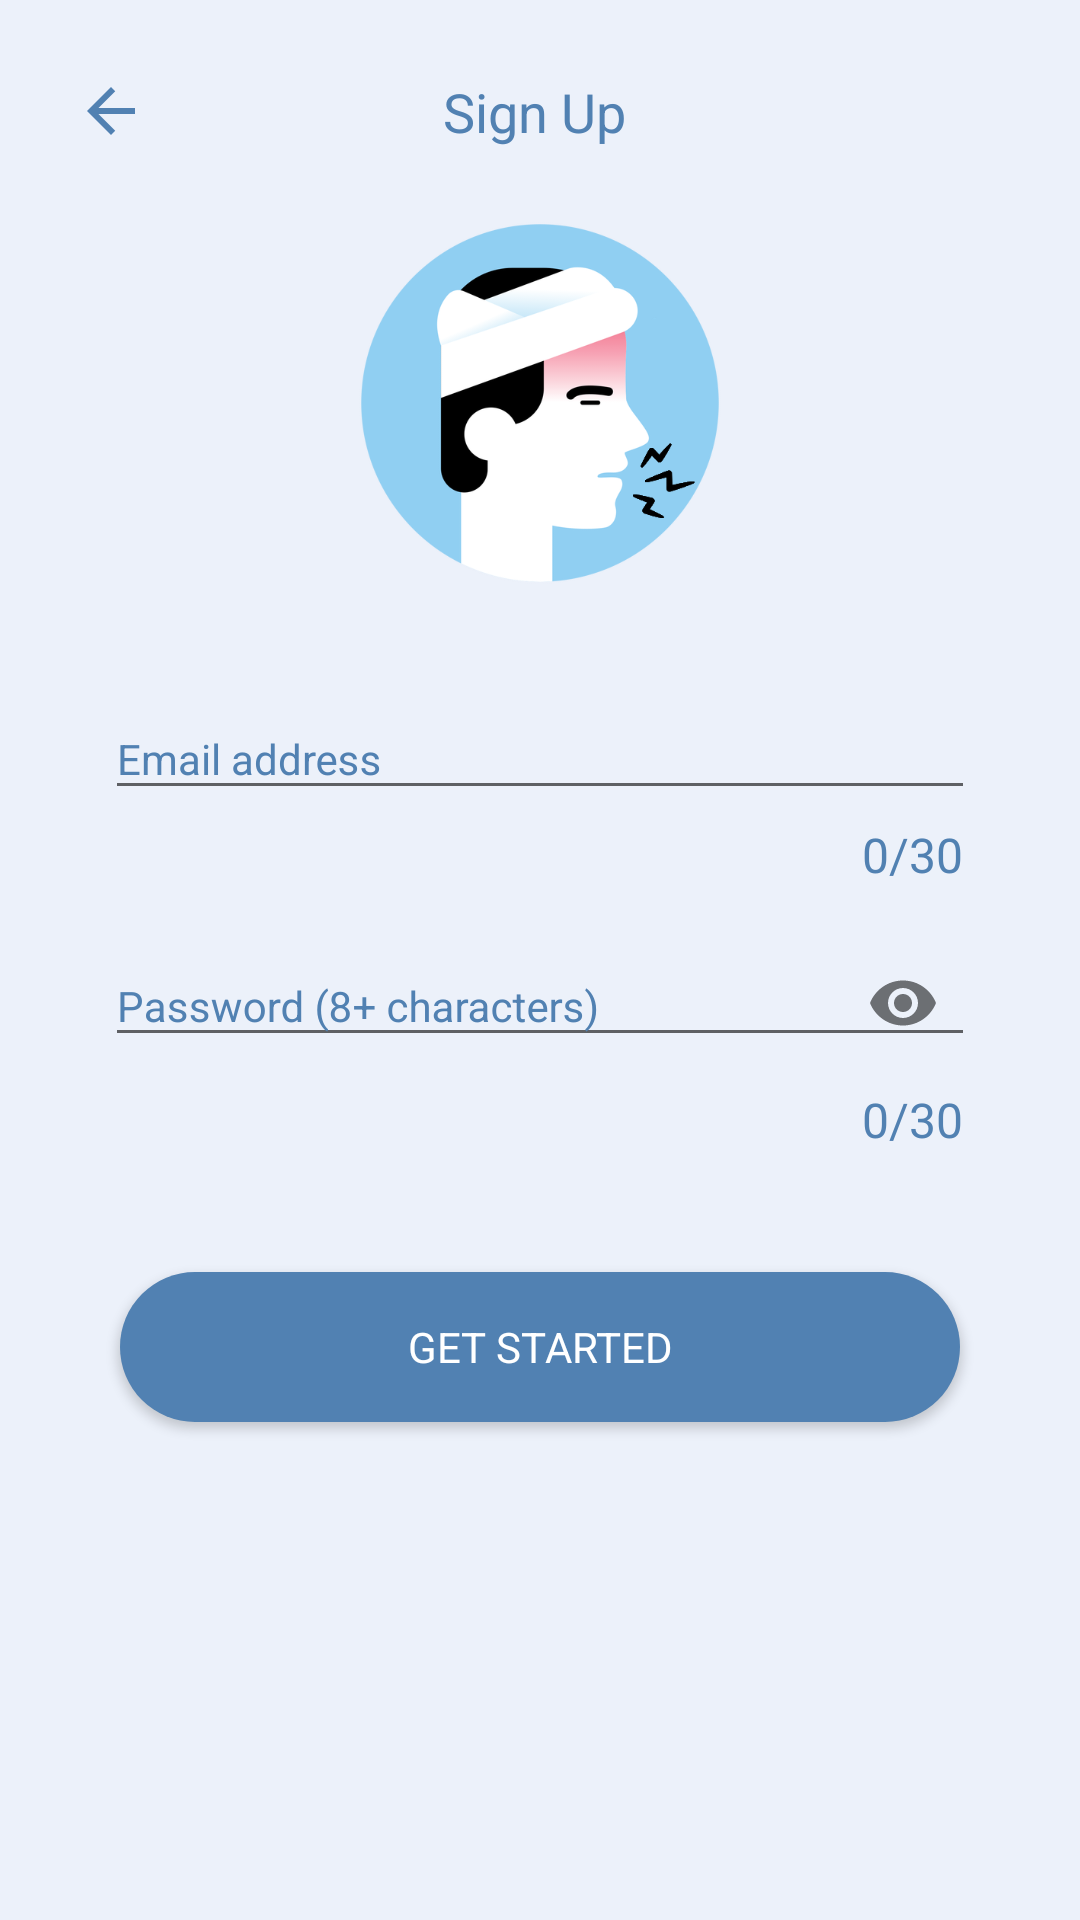

Point at icon controls on the screen. Image size 1080w x 1920h, points as point (x, y).
arrow back: point (111, 111)
